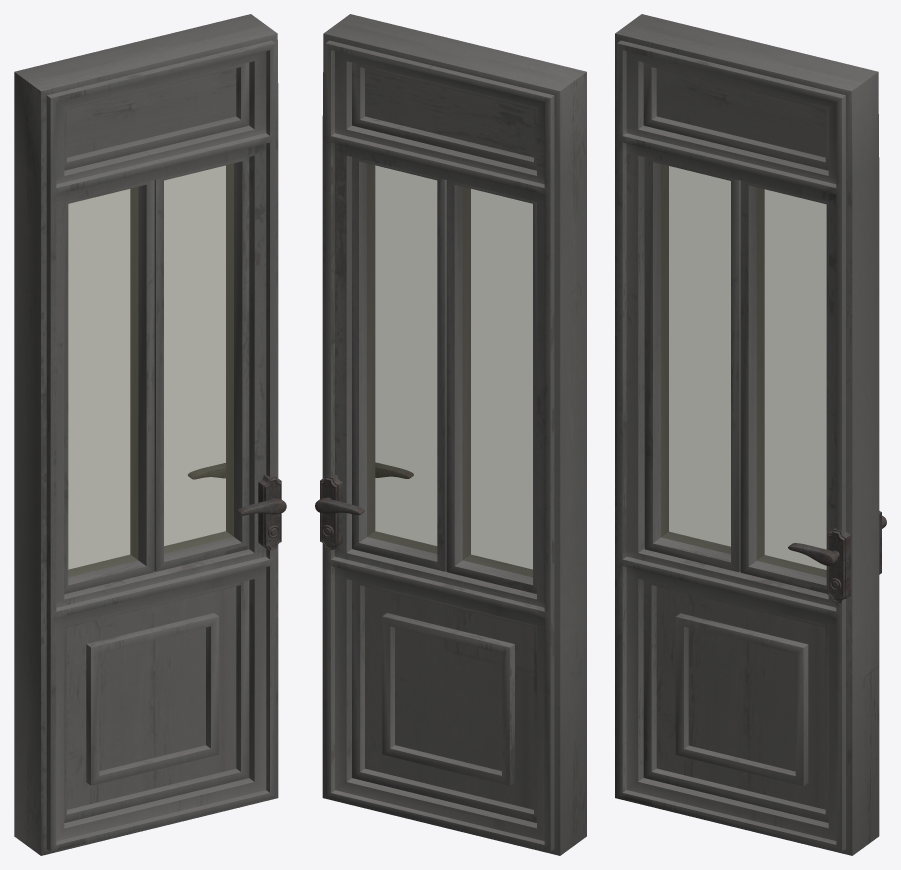
The model's file is SK4 DOOR A.fbx.
The picture shows the model from 3 angles, left to right: view 1: azimuth 30°, elevation 25°; view 2: azimuth 150°, elevation 25°; view 3: azimuth 330°, elevation 25°; orthographic projection.
Parts seen in each view (by area): view 1: SK4 DOOR A; view 2: SK4 DOOR A; view 3: SK4 DOOR A.
Part boxes in pixels (x1,y1,x2,y2): SK4 DOOR A: (14, 14, 286, 855); SK4 DOOR A: (315, 14, 586, 855); SK4 DOOR A: (615, 14, 886, 855).
Size of the model in its own units: 80.98 by 249 by 32.18.
